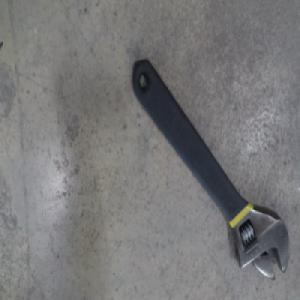AdjustableWrench: (130, 55, 289, 277)
